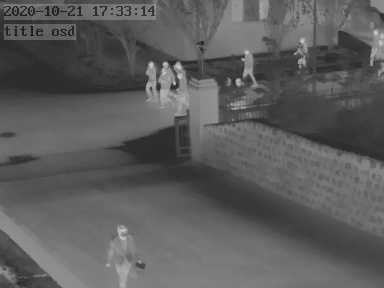person: (108, 221, 140, 288), (174, 61, 188, 109), (160, 62, 174, 105), (241, 48, 257, 85), (370, 28, 384, 68), (144, 62, 157, 100), (294, 37, 308, 65)
